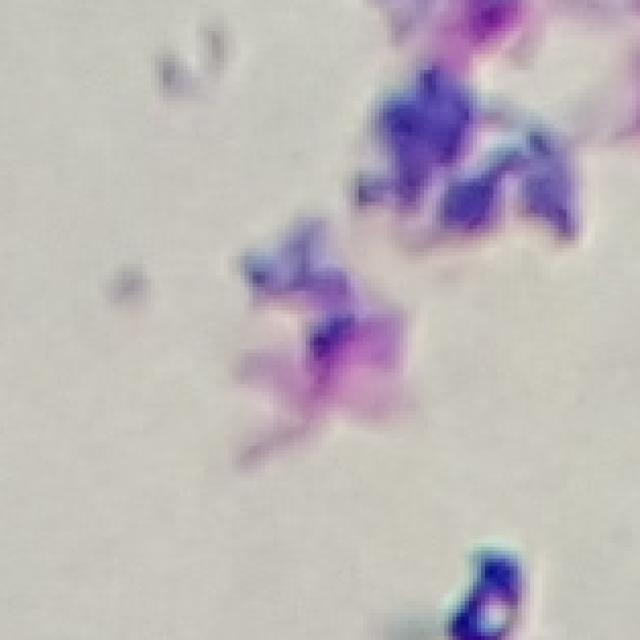non-sperm: (228, 219, 412, 470), (343, 62, 586, 252)
